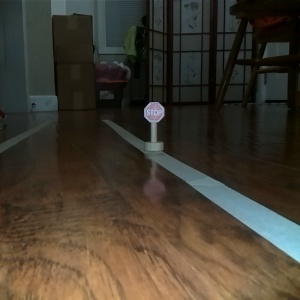stop sign: (140, 100, 165, 153)
